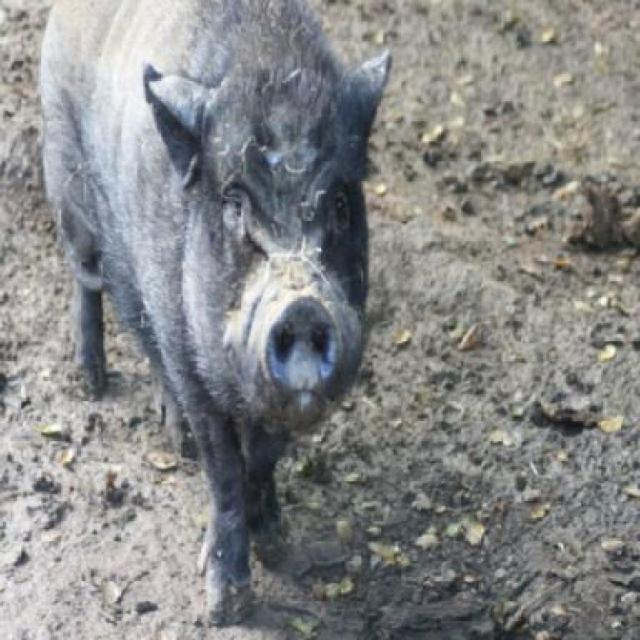Boar: (37, 0, 392, 628)
